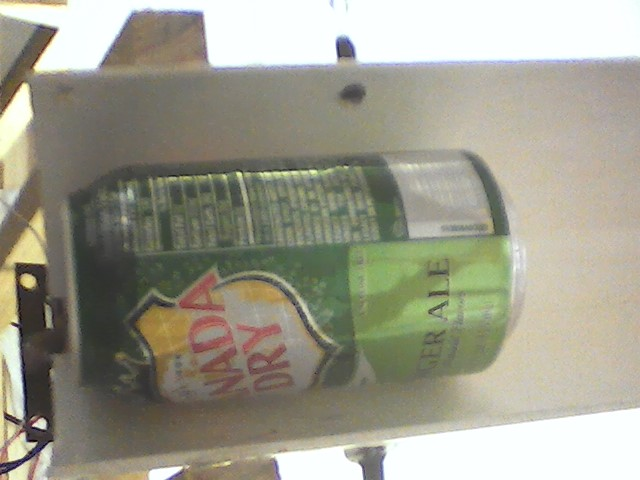lata: (53, 143, 536, 408)
